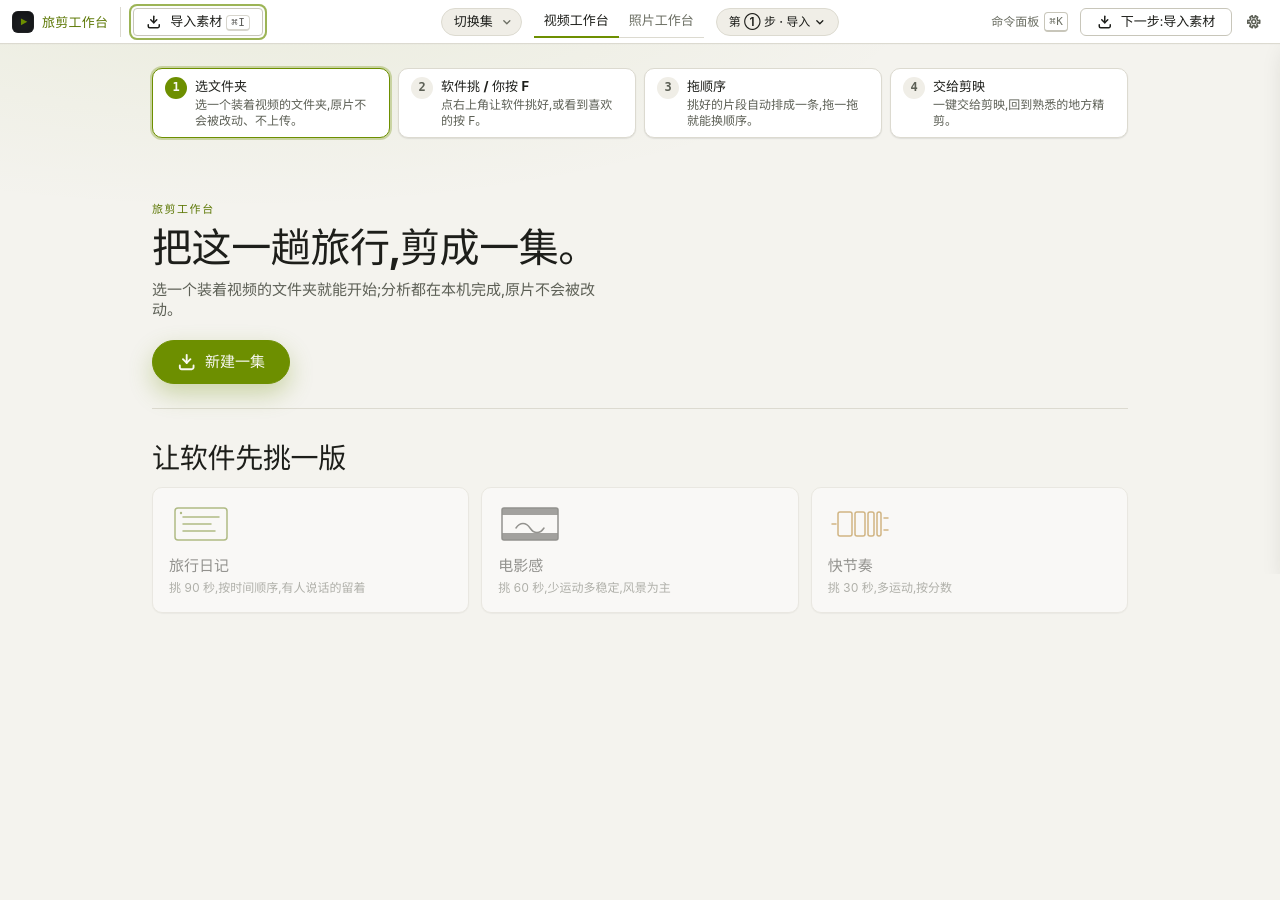
Test: 导入抽屉 › 三个分页名为 来源 / 任务 / 缺失素材
Click the button "导入素材 ⌘I".
click(198, 22)  # box [133, 8, 263, 36]
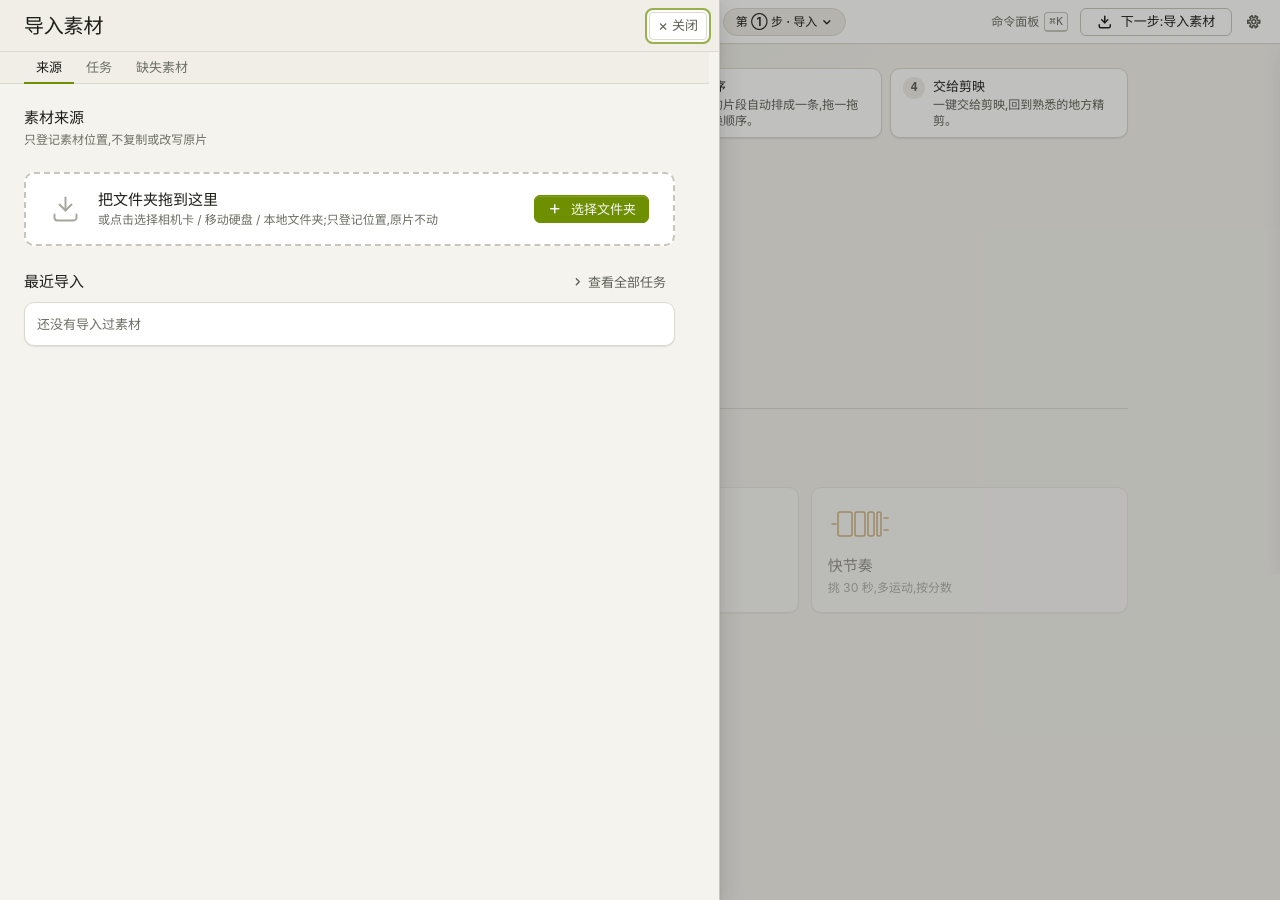
Expected: the tabs read "来源", "任务", "缺失素材", in this order, [24, 52, 74, 84]; [74, 52, 124, 84]; [124, 52, 200, 84]
